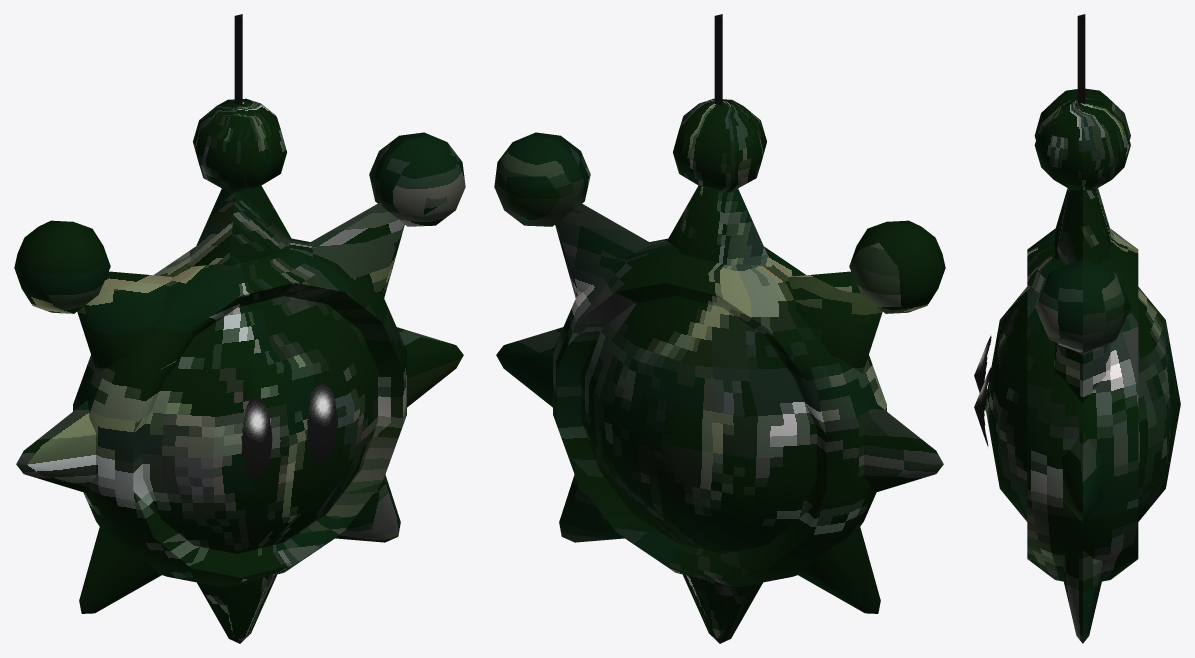
The model's file is shinemonument.FBX.
The picture shows the model from 3 angles, left to right: view 1: azimuth 30°, elevation 25°; view 2: azimuth 150°, elevation 25°; view 3: azimuth 270°, elevation 25°; orthographic projection.
Parts seen in each view (by area): view 1: n0b1, n1b0; view 2: n0b1, n1b0; view 3: n0b1, n1b0.
Boxes of the visible parts, x1,y1,x2,y2 form: n0b1: (14,98,465,643); n1b0: (234,14,337,480); n0b1: (494,98,945,643); n1b0: (714,14,722,105); n0b1: (985,88,1180,643); n1b0: (974,14,1085,446).
Bounding box in the file's own units: 392 × 526 × 159.
